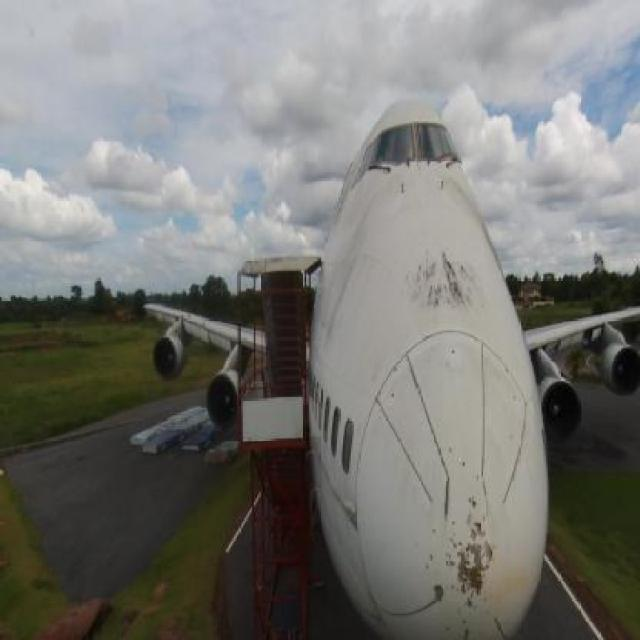Rust: (404, 251, 494, 324), (449, 177, 486, 246), (499, 556, 536, 607), (451, 556, 489, 598)
Scartch: (322, 188, 382, 337), (441, 528, 505, 614), (421, 577, 459, 612), (345, 492, 366, 533)
